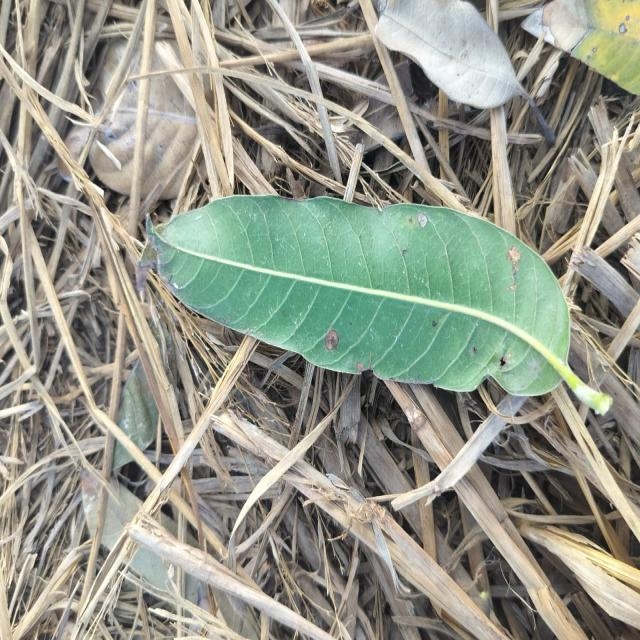Anthracnose: (319, 323, 343, 355)
Bacterial Cancer: (508, 246, 520, 263)
black die: (431, 314, 442, 332)
